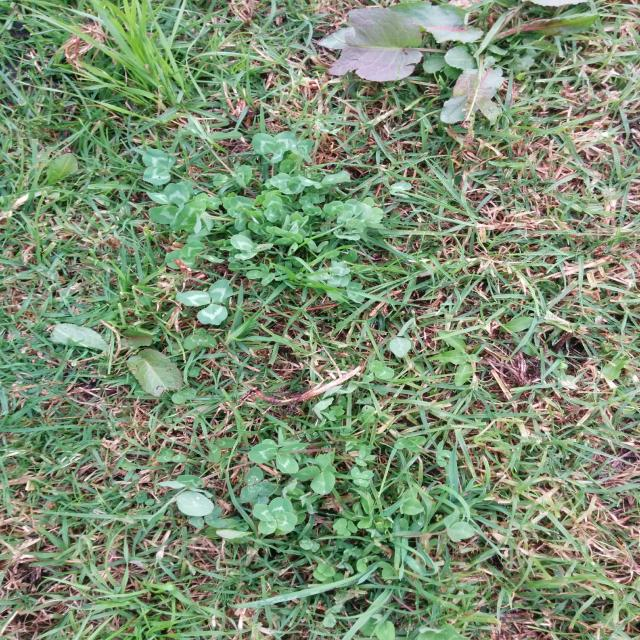Four Leaf Clover: (252, 497, 297, 534)
